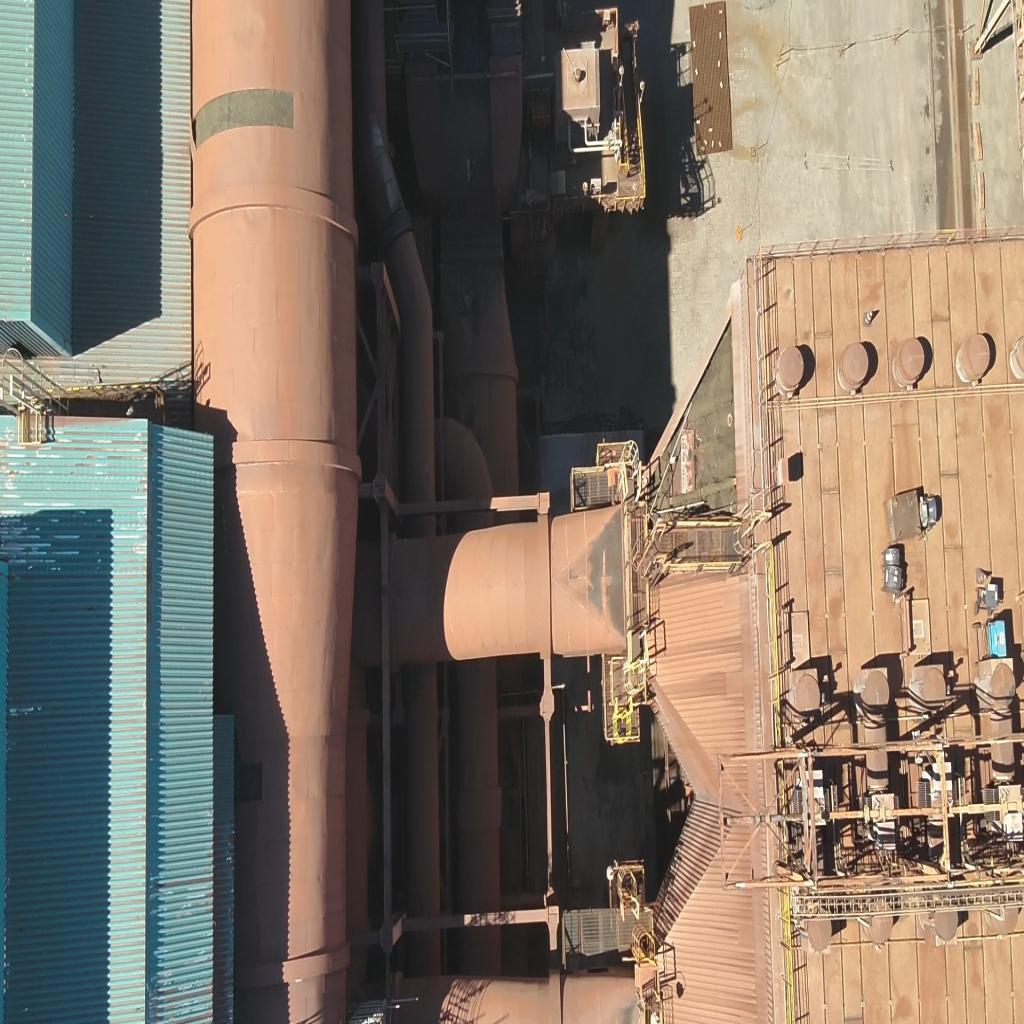Failures: (649, 337, 743, 572), (180, 90, 294, 152)
